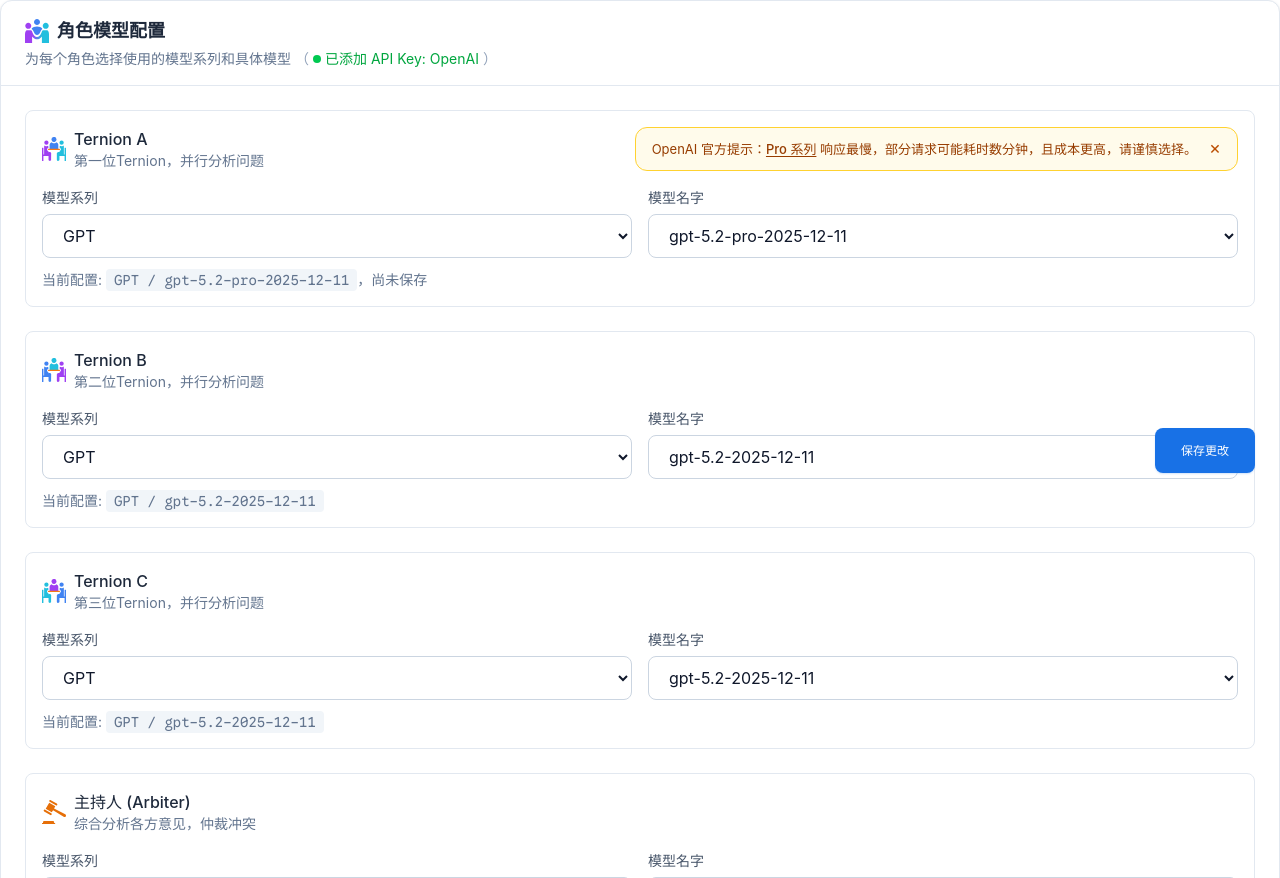
RoleModelConfig › clears removed selections after refreshing the model catalog from the save error banner
The width and height of the screenshot is (1280, 878).
Select "gpt-5.3-codex" in the 2nd dropdown at [943, 236], box [648, 214, 1238, 258]
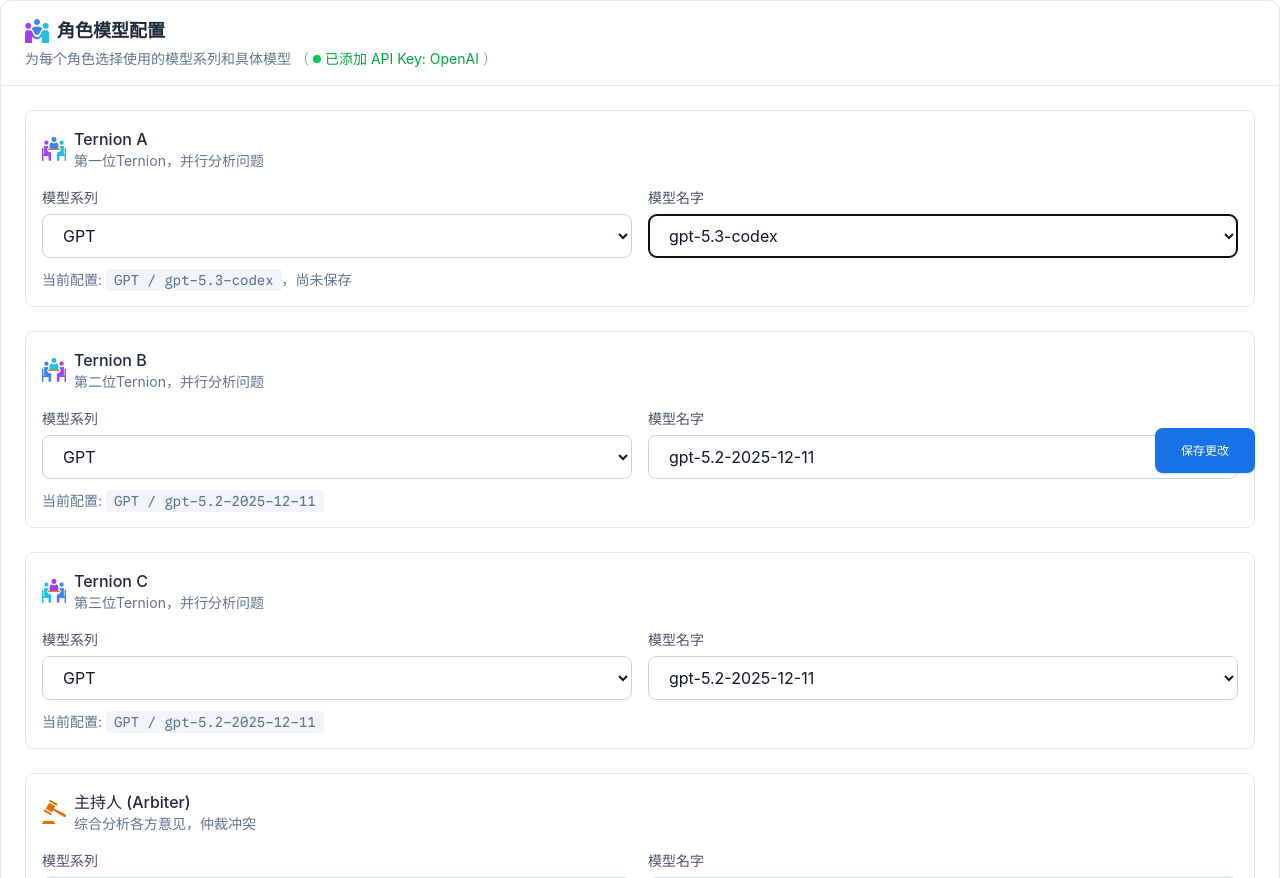
Click the button "保存更改" at [1205, 450], box [1155, 428, 1255, 472]
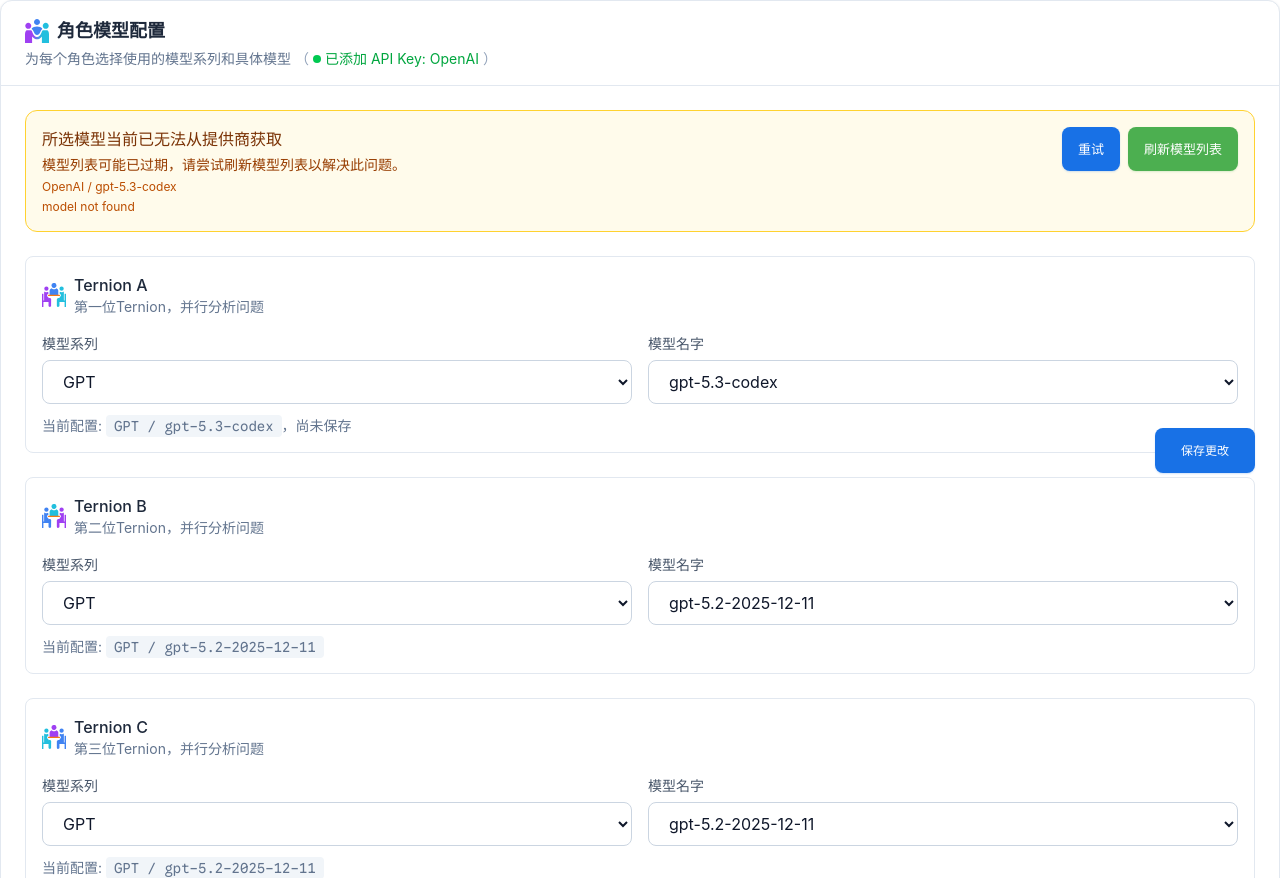
Result: the button "刷新模型列表" is shown
Click the button "刷新模型列表" at [1183, 149], box [1128, 127, 1238, 171]
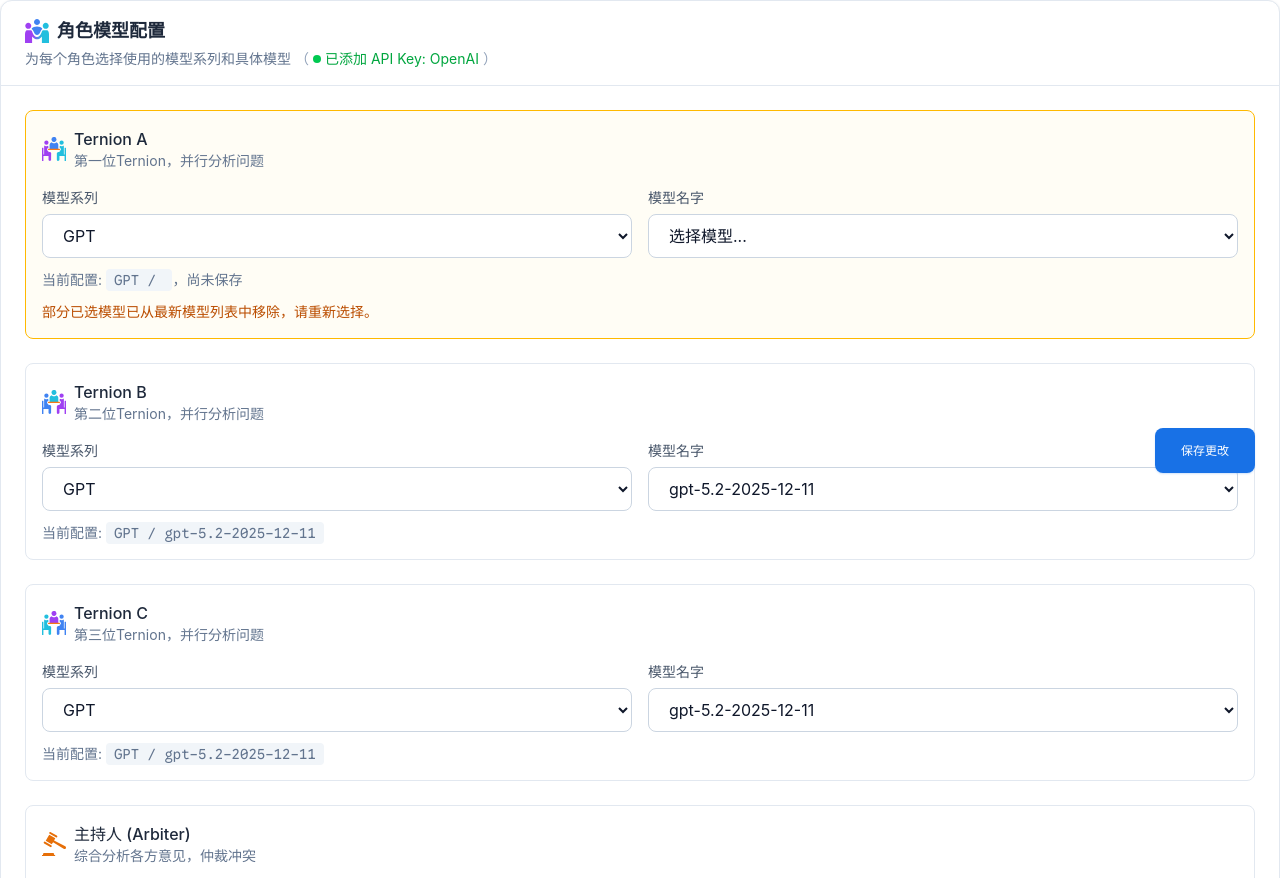
Result: the text "部分已选模型已从最新模型列表中移除，请重新选择。" is shown at [42, 303, 378, 320]
